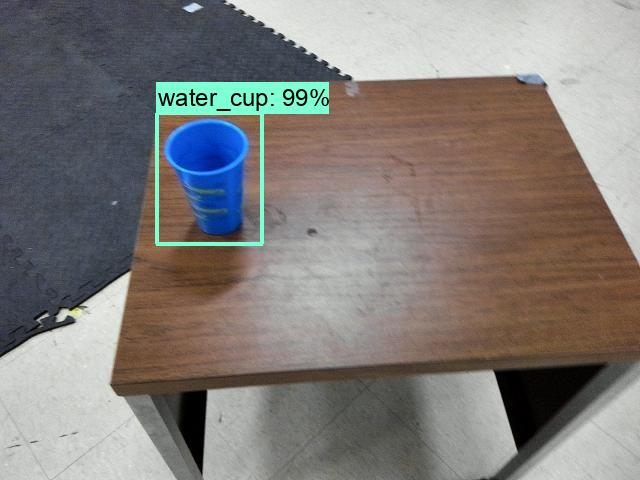water_cup: (158, 113, 264, 245)
